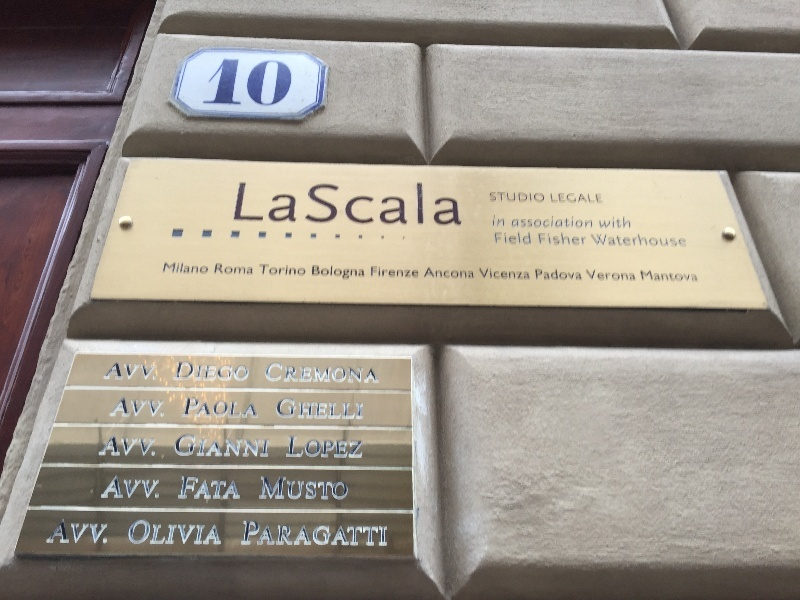text: (225, 59, 240, 107), (241, 59, 256, 107), (257, 59, 272, 107), (273, 59, 288, 107), (241, 182, 256, 227), (257, 182, 272, 227), (273, 182, 288, 227), (289, 182, 304, 227), (305, 182, 320, 227), (321, 182, 336, 227), (337, 182, 352, 227), (353, 182, 368, 227), (369, 182, 384, 227), (385, 182, 400, 227), (401, 182, 416, 227), (417, 182, 432, 227), (433, 182, 448, 227), (449, 182, 463, 227), (129, 474, 144, 501), (145, 474, 160, 501), (65, 518, 80, 545), (81, 518, 96, 545), (145, 519, 160, 546), (161, 519, 176, 546), (177, 519, 192, 546), (193, 519, 208, 546), (257, 521, 272, 547), (273, 521, 288, 547), (289, 521, 304, 547), (305, 521, 320, 547), (321, 521, 336, 547), (337, 521, 352, 547), (353, 521, 368, 547), (369, 521, 384, 547), (225, 476, 241, 500), (177, 433, 192, 458), (193, 433, 208, 458), (209, 433, 224, 458), (225, 433, 240, 458), (241, 433, 256, 458), (273, 476, 288, 501), (289, 476, 304, 501), (305, 476, 320, 501), (321, 476, 336, 501), (193, 476, 208, 500), (209, 476, 224, 500), (209, 519, 222, 546), (129, 396, 144, 419), (145, 396, 160, 419), (129, 434, 144, 457), (289, 397, 304, 420), (305, 397, 320, 420), (321, 397, 336, 420), (337, 397, 352, 420), (289, 436, 304, 459), (305, 436, 320, 459), (321, 436, 336, 459), (337, 436, 352, 459), (257, 433, 270, 458), (337, 476, 350, 501), (116, 474, 128, 501), (114, 434, 128, 457), (177, 361, 192, 382), (193, 361, 208, 382), (209, 361, 224, 382), (225, 361, 240, 382), (193, 397, 208, 418), (209, 397, 224, 418), (225, 397, 240, 418), (241, 397, 256, 418), (273, 363, 288, 384), (289, 363, 304, 384), (305, 363, 320, 384), (321, 363, 336, 384), (337, 363, 352, 384), (353, 363, 368, 384), (244, 521, 256, 547), (97, 518, 108, 545), (129, 362, 144, 381), (145, 434, 157, 457), (134, 519, 144, 546), (353, 397, 364, 420), (369, 363, 381, 384), (262, 476, 272, 501), (145, 362, 158, 381), (321, 265, 336, 281), (337, 265, 352, 281), (182, 476, 192, 500), (353, 436, 363, 459), (116, 362, 128, 381), (385, 265, 400, 279), (401, 265, 416, 279), (545, 268, 560, 282), (561, 268, 576, 282), (609, 216, 624, 230), (593, 234, 608, 248), (609, 234, 624, 248), (625, 234, 640, 248), (641, 234, 656, 248), (657, 234, 672, 248), (673, 234, 688, 248), (193, 262, 209, 275), (577, 216, 593, 229), (279, 397, 288, 420), (177, 262, 192, 275), (225, 263, 240, 276), (273, 264, 288, 277), (289, 264, 304, 277), (481, 268, 496, 281), (497, 268, 512, 281), (513, 268, 528, 281), (593, 269, 608, 282), (609, 269, 624, 282), (497, 232, 512, 245), (513, 232, 528, 245), (545, 233, 560, 246), (561, 233, 576, 246), (513, 216, 528, 229), (529, 216, 544, 229), (545, 216, 560, 229), (561, 216, 576, 229), (353, 265, 365, 281), (241, 361, 250, 382), (371, 265, 384, 279), (433, 267, 448, 279), (449, 267, 464, 279), (641, 270, 656, 282), (657, 270, 672, 282), (673, 270, 688, 282), (529, 192, 545, 203), (625, 269, 638, 282), (497, 192, 512, 203), (513, 192, 528, 203), (561, 193, 576, 204), (577, 193, 592, 204), (241, 263, 253, 276), (260, 264, 272, 277), (597, 216, 608, 230), (289, 59, 292, 107), (165, 262, 176, 275), (689, 270, 700, 282), (577, 233, 587, 246), (535, 268, 544, 282), (186, 397, 192, 418), (593, 193, 604, 204), (465, 267, 475, 279), (313, 265, 320, 281), (550, 193, 560, 204), (216, 263, 224, 276), (577, 268, 584, 282), (497, 215, 505, 227), (124, 396, 128, 419), (161, 396, 165, 419), (585, 269, 592, 282), (625, 216, 631, 230), (268, 363, 272, 384), (538, 233, 544, 246), (385, 521, 388, 547), (489, 192, 496, 203), (257, 397, 260, 418), (589, 234, 592, 248), (529, 232, 532, 245), (429, 267, 432, 279), (417, 265, 419, 279), (63, 518, 64, 545), (478, 268, 480, 281), (529, 268, 531, 281), (175, 433, 176, 458), (494, 215, 496, 227), (305, 264, 306, 277), (495, 232, 496, 245)
